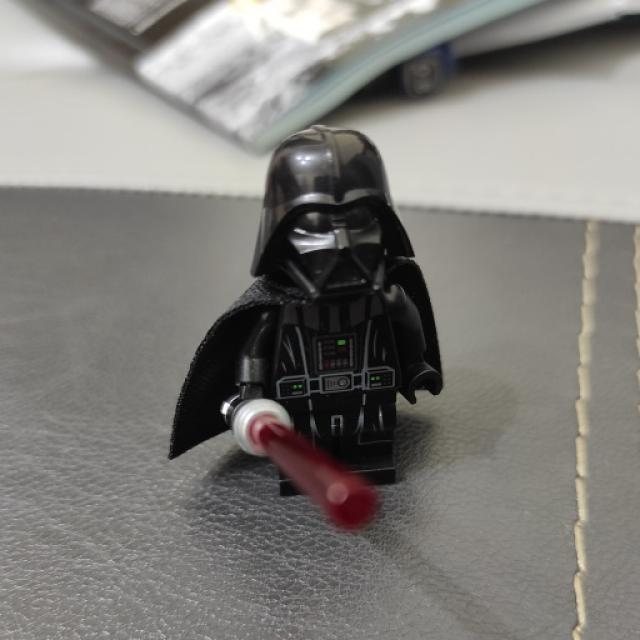Lego-Minifigures: (142, 96, 480, 532)
